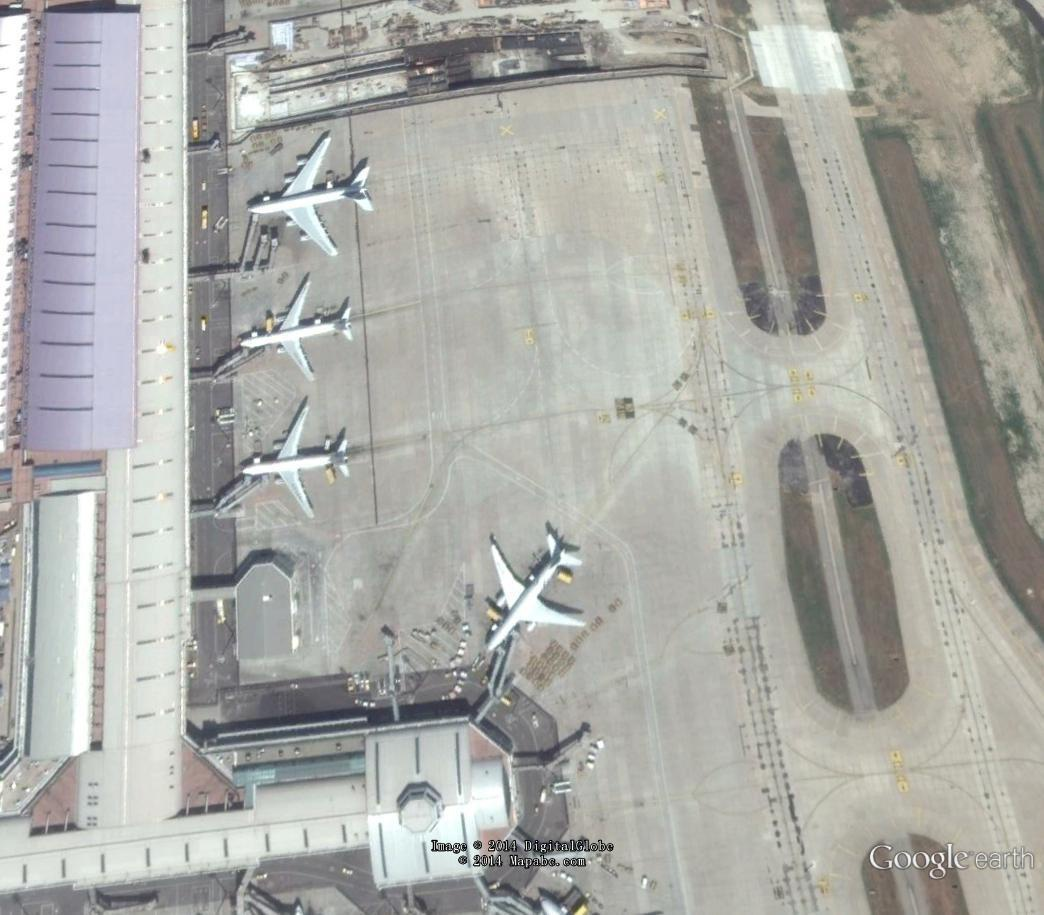aircraft: (241, 129, 376, 261), (232, 394, 361, 523), (480, 519, 595, 658), (231, 270, 361, 384)
